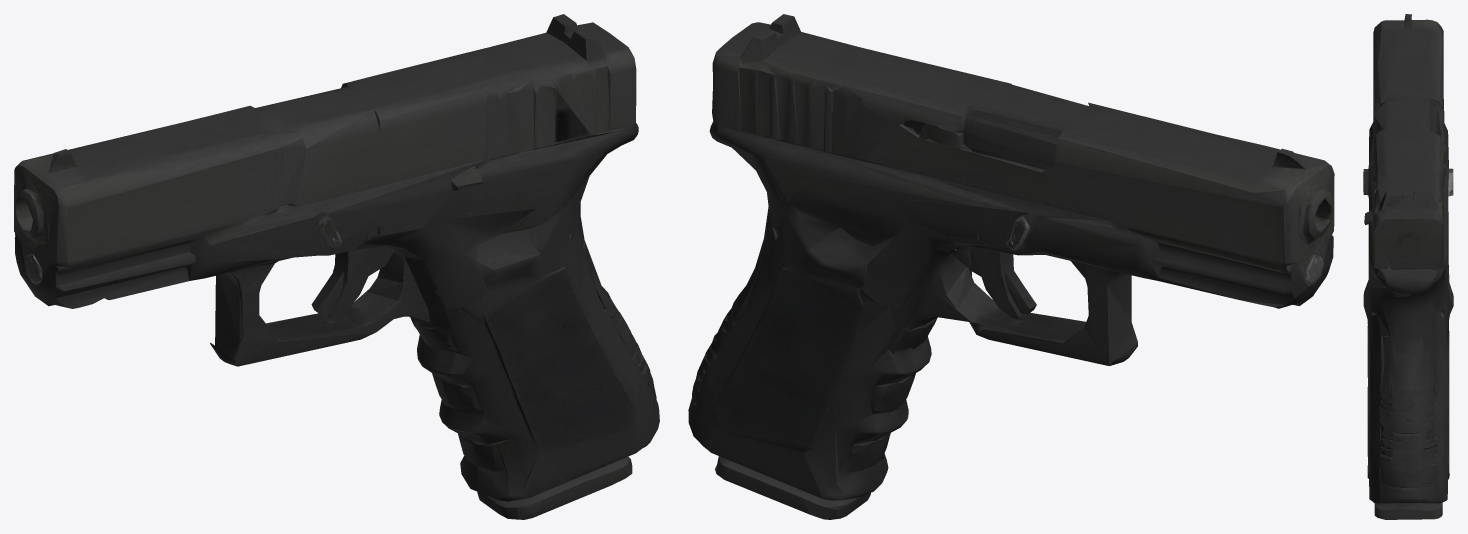
The model's file is w-pistol.glb.
The picture shows the model from 3 angles, left to right: view 1: azimuth 30°, elevation 25°; view 2: azimuth 150°, elevation 25°; view 3: azimuth 270°, elevation 25°; orthographic projection. The views are drawn at different scales.
Bounding box in the file's own units: 1.9 × 1.34 × 0.3318.
1 material, 1 textured.
